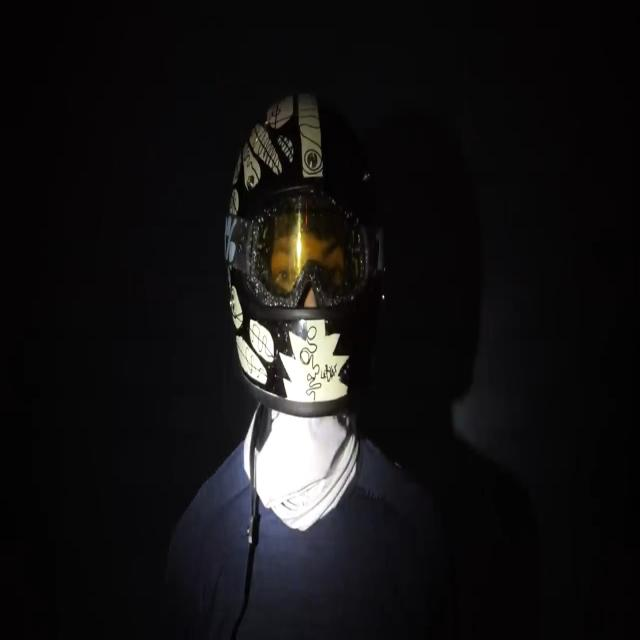Helmet_Wearer: (219, 69, 408, 456)
Person: (140, 62, 444, 640)
